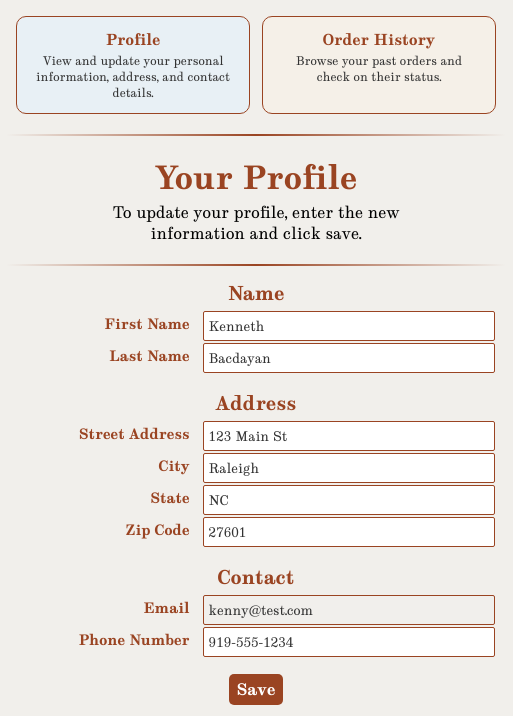
it: Profile Page › formats phone returned from successful update
Expected: the field labelled "First Name" is shown, [203,311,495,341]
Click the button "Save" at x=256, y=690, box [228,674,284,705]
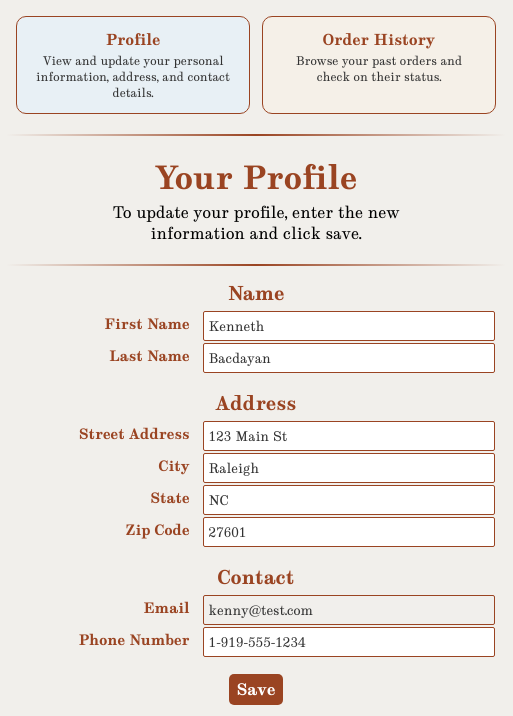
Now the field labelled "Phone Number" holds "1-919-555-1234", box [203,627,495,657]
